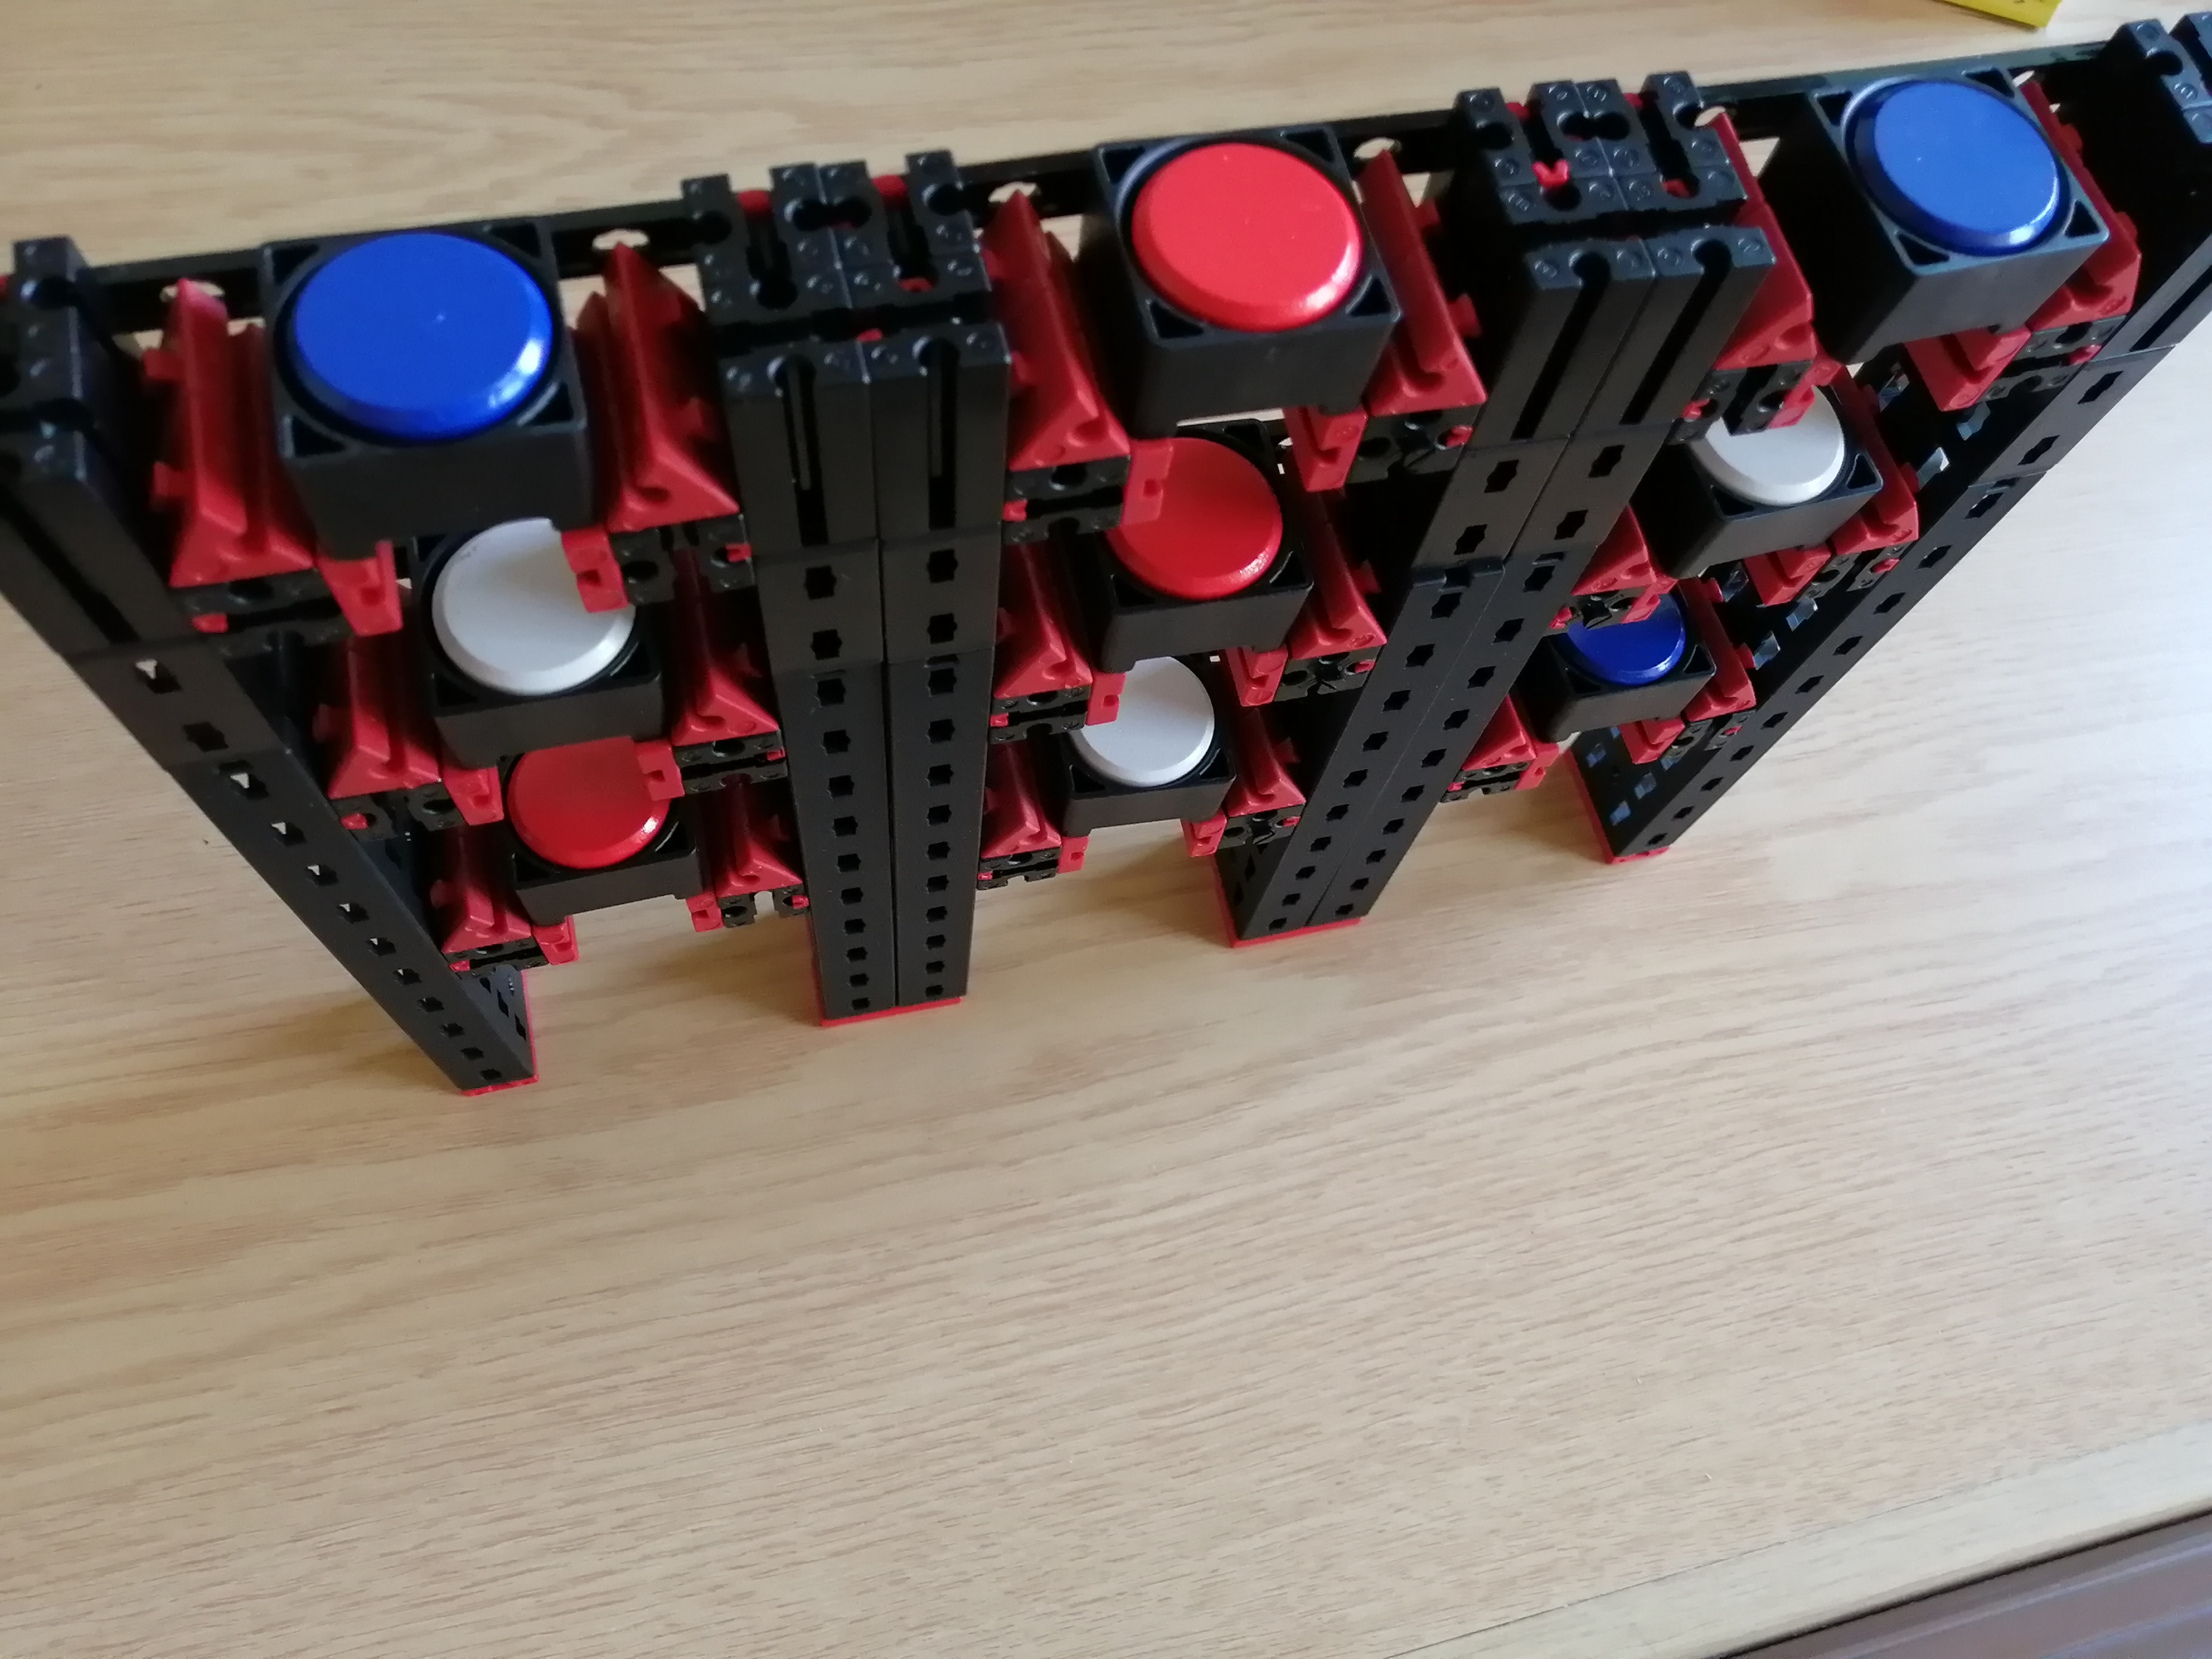Behaelter: (263, 239, 594, 540), (1071, 146, 1386, 411), (1810, 64, 2090, 340), (415, 551, 671, 742), (1113, 443, 1317, 655), (1648, 432, 1860, 592), (493, 775, 718, 915), (1066, 688, 1252, 829), (1534, 617, 1716, 727)
WerkStueck: (300, 239, 543, 422), (1141, 153, 1353, 319), (1867, 87, 2054, 265), (430, 537, 634, 678), (1137, 450, 1291, 591), (510, 763, 665, 863), (1712, 410, 1851, 502), (1104, 683, 1217, 786), (1576, 629, 1691, 685)
